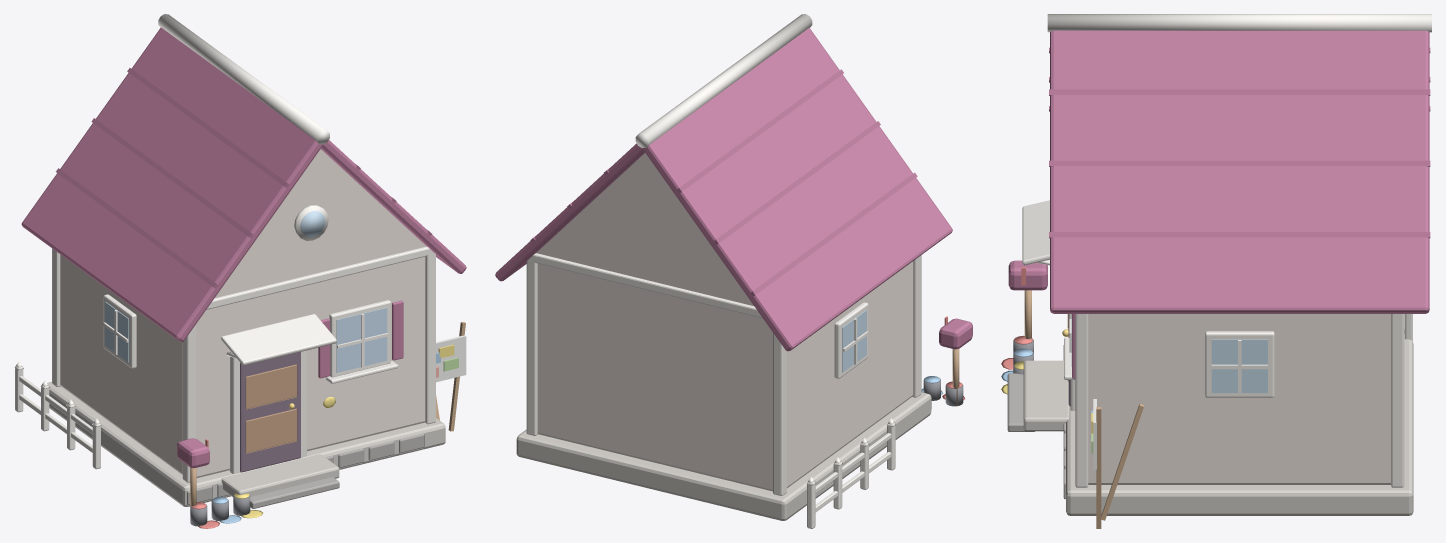
The model's file is casa_ravena.glb.
3 views of the same model, side by side, from view 1: azimuth 30°, elevation 25°; view 2: azimuth 150°, elevation 25°; view 3: azimuth 270°, elevation 25° (orthographic). The views are drawn at different scales.
Parts seen in each view (by area): view 1: casa_ravena; view 2: casa_ravena; view 3: casa_ravena.
Part boxes in pixels (<box>): casa_ravena: <box>14,14,466,528</box>; casa_ravena: <box>495,14,972,528</box>; casa_ravena: <box>1001,14,1431,528</box>.
Bounding box in the file's own units: 4.76 × 5 × 4.59.
